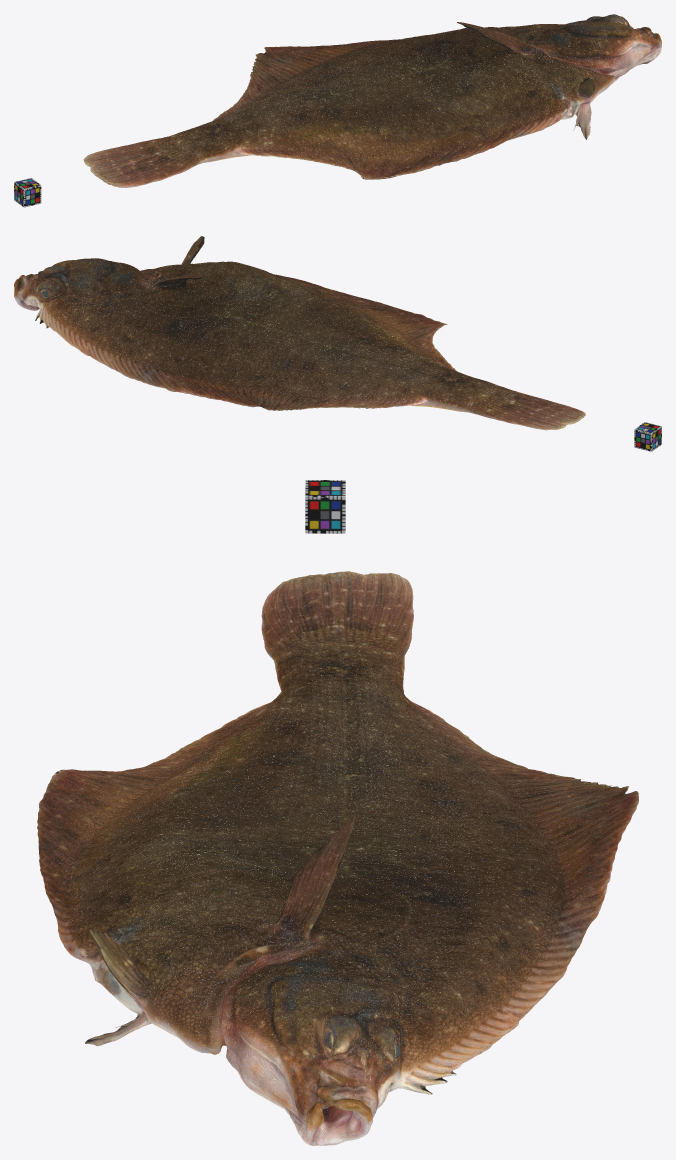
File: makogarei.glb
3 views of the same model, one above another, from view 1: azimuth 30°, elevation 25°; view 2: azimuth 150°, elevation 25°; view 3: azimuth 270°, elevation 25° (orthographic). The views are drawn at different scales.
Visible parts, largest first — view 1: Q11804-1all-1_5, Cube_2; view 2: Q11804-1all-1_5, Cube_2; view 3: Q11804-1all-1_5, Cube_2.
Boxes of the visible parts, x1,y1,x2,y2 form: Q11804-1all-1_5: (83, 14, 661, 187); Cube_2: (14, 178, 41, 207); Q11804-1all-1_5: (14, 236, 585, 430); Cube_2: (634, 422, 661, 451); Q11804-1all-1_5: (37, 571, 638, 1145); Cube_2: (305, 480, 345, 533).
Size of the model in its own units: 18.22 by 3.1 by 7.42.
3 materials, 3 textured.
